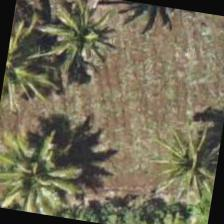Kelapa_Sawit: (25, 0, 128, 84), (0, 125, 86, 219), (145, 116, 222, 216), (0, 14, 60, 111)
